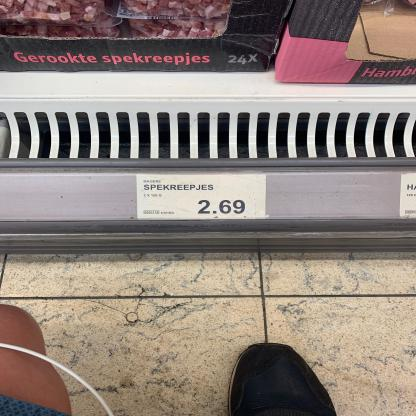prtg: (138, 176, 268, 221), (401, 174, 416, 221)
